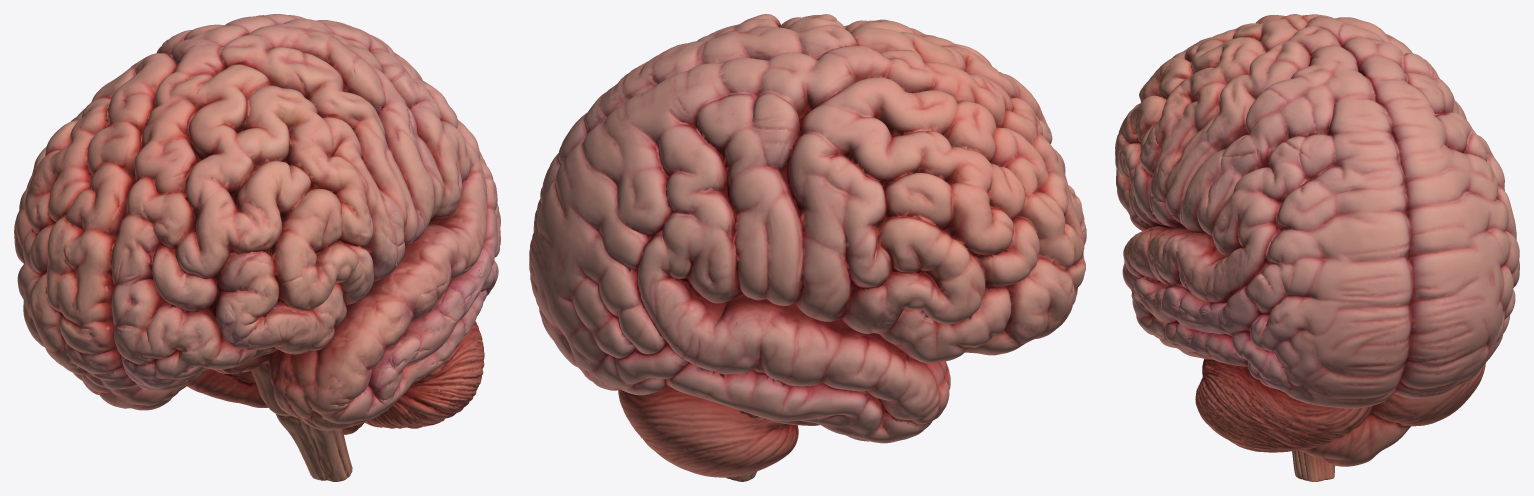
Rendered from organ-brain-interactive-lod.orig.glb.
3 renders of one model, left to right at view 1: azimuth 30°, elevation 25°; view 2: azimuth 150°, elevation 25°; view 3: azimuth 270°, elevation 25°, orthographic. The views are drawn at different scales.
Parts seen in each view (by area): view 1: tripo_node_938185c2-e59c-4f52-8e5e-bb526af0889b; view 2: tripo_node_938185c2-e59c-4f52-8e5e-bb526af0889b; view 3: tripo_node_938185c2-e59c-4f52-8e5e-bb526af0889b.
Boxes of the visible parts, x1,y1,x2,y2 form: tripo_node_938185c2-e59c-4f52-8e5e-bb526af0889b: (14,14,500,481); tripo_node_938185c2-e59c-4f52-8e5e-bb526af0889b: (529,14,1086,481); tripo_node_938185c2-e59c-4f52-8e5e-bb526af0889b: (1115,14,1519,481).
Size of the model in its own units: 32123 by 29513 by 26470.
1 material, 1 textured.
